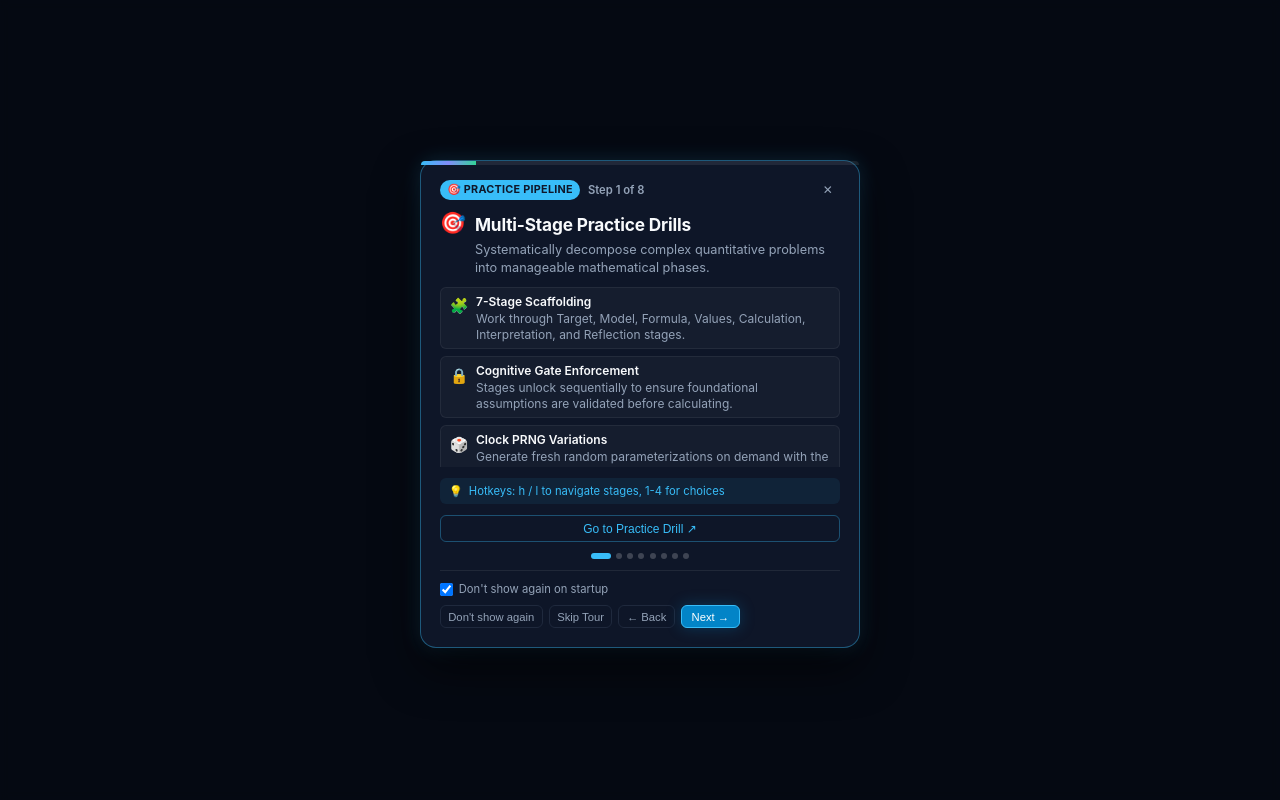
ProductTourModal Component › advances through steps when clicking Next and goes back with Back button
Click the button "Next →" at (710, 617), box [681, 606, 740, 628]
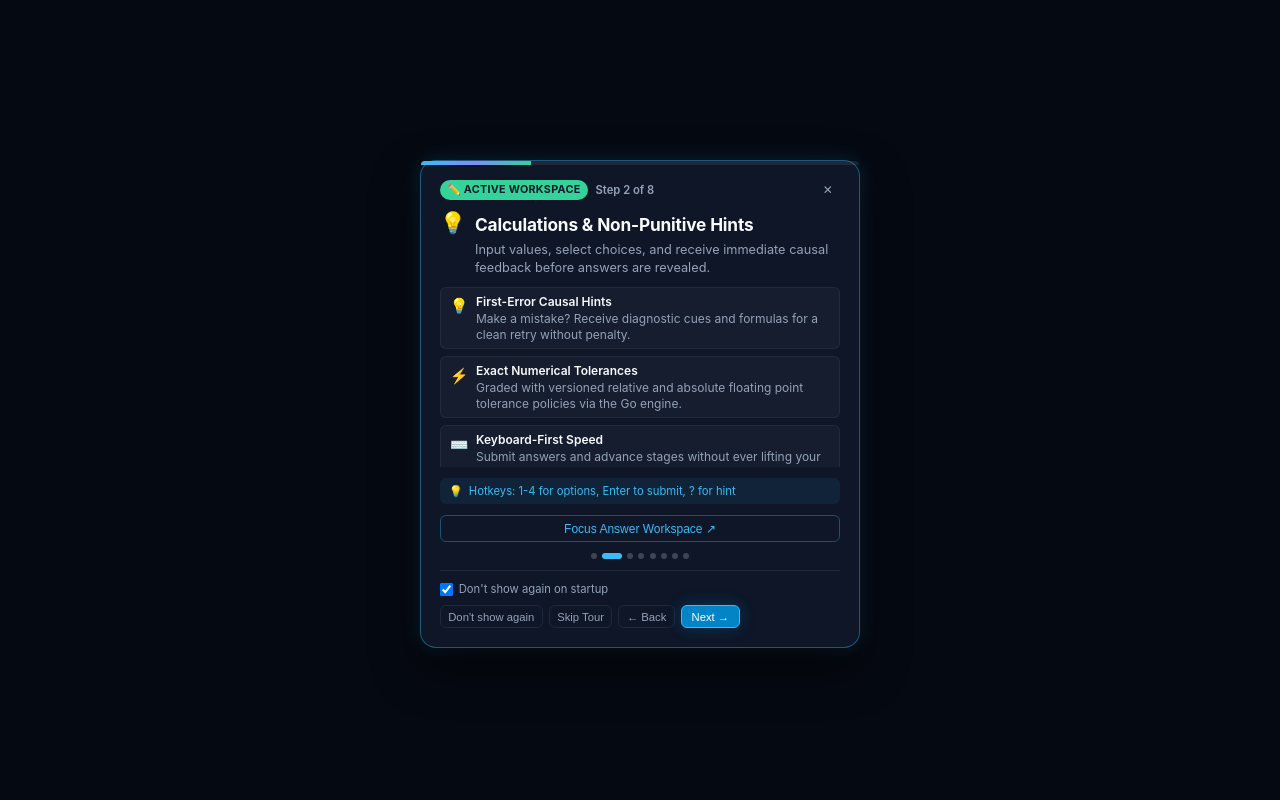
Result: the heading "Calculations & Non-Punitive Hints" is shown at [475, 214, 754, 235]
Result: the text "Step 2 of 8" is shown at [596, 182, 654, 199]
Click the button "← Back" at (647, 617), box [618, 606, 675, 628]
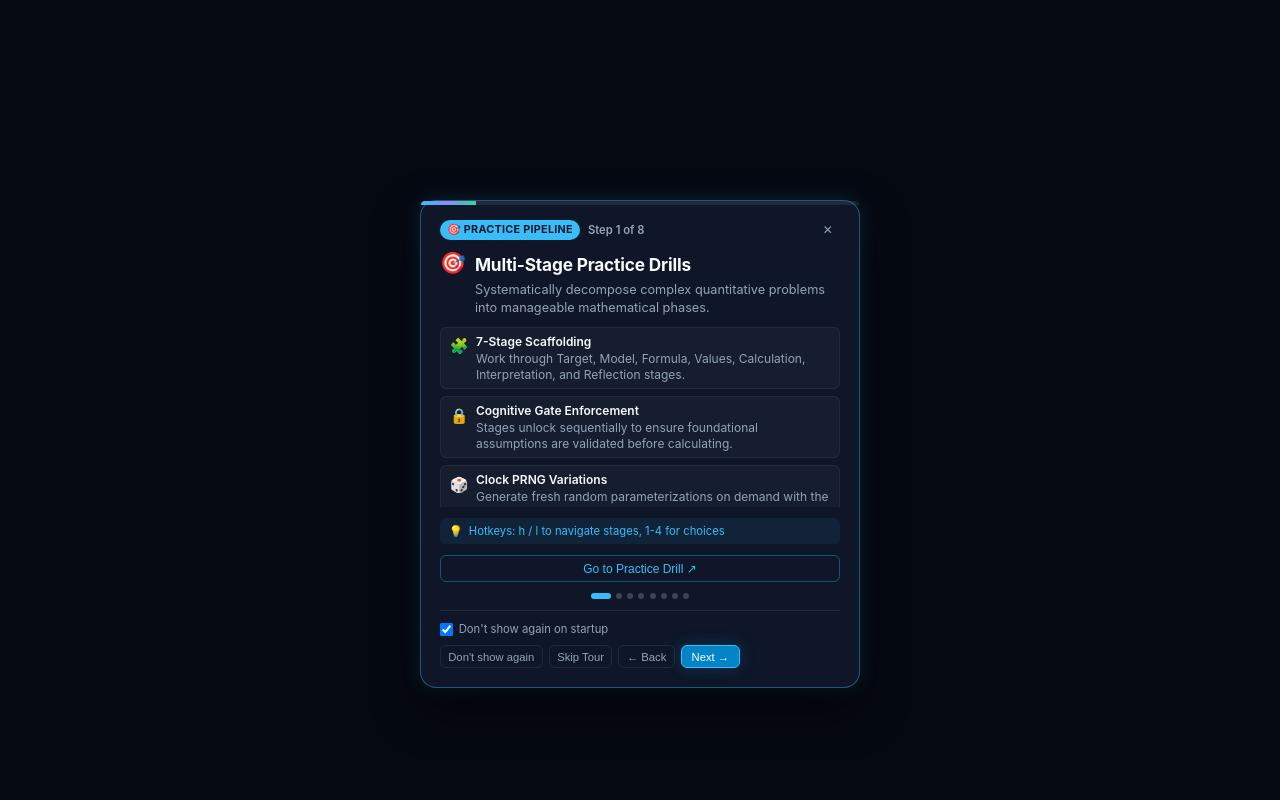
Result: the heading "Multi-Stage Practice Drills" is shown at [475, 254, 691, 275]
Result: the text "Step 1 of 8" is shown at [588, 222, 644, 239]
